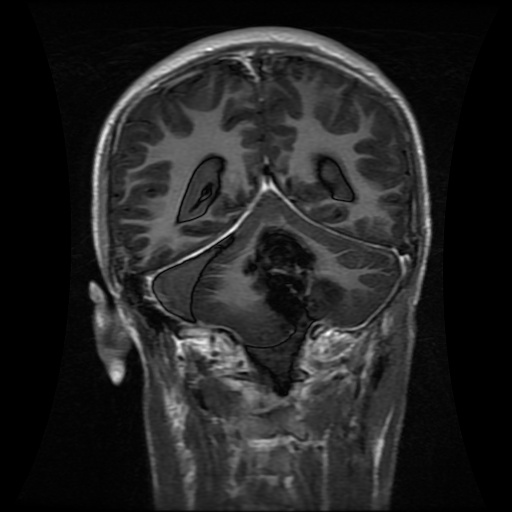glioma: (204, 221, 377, 326)
